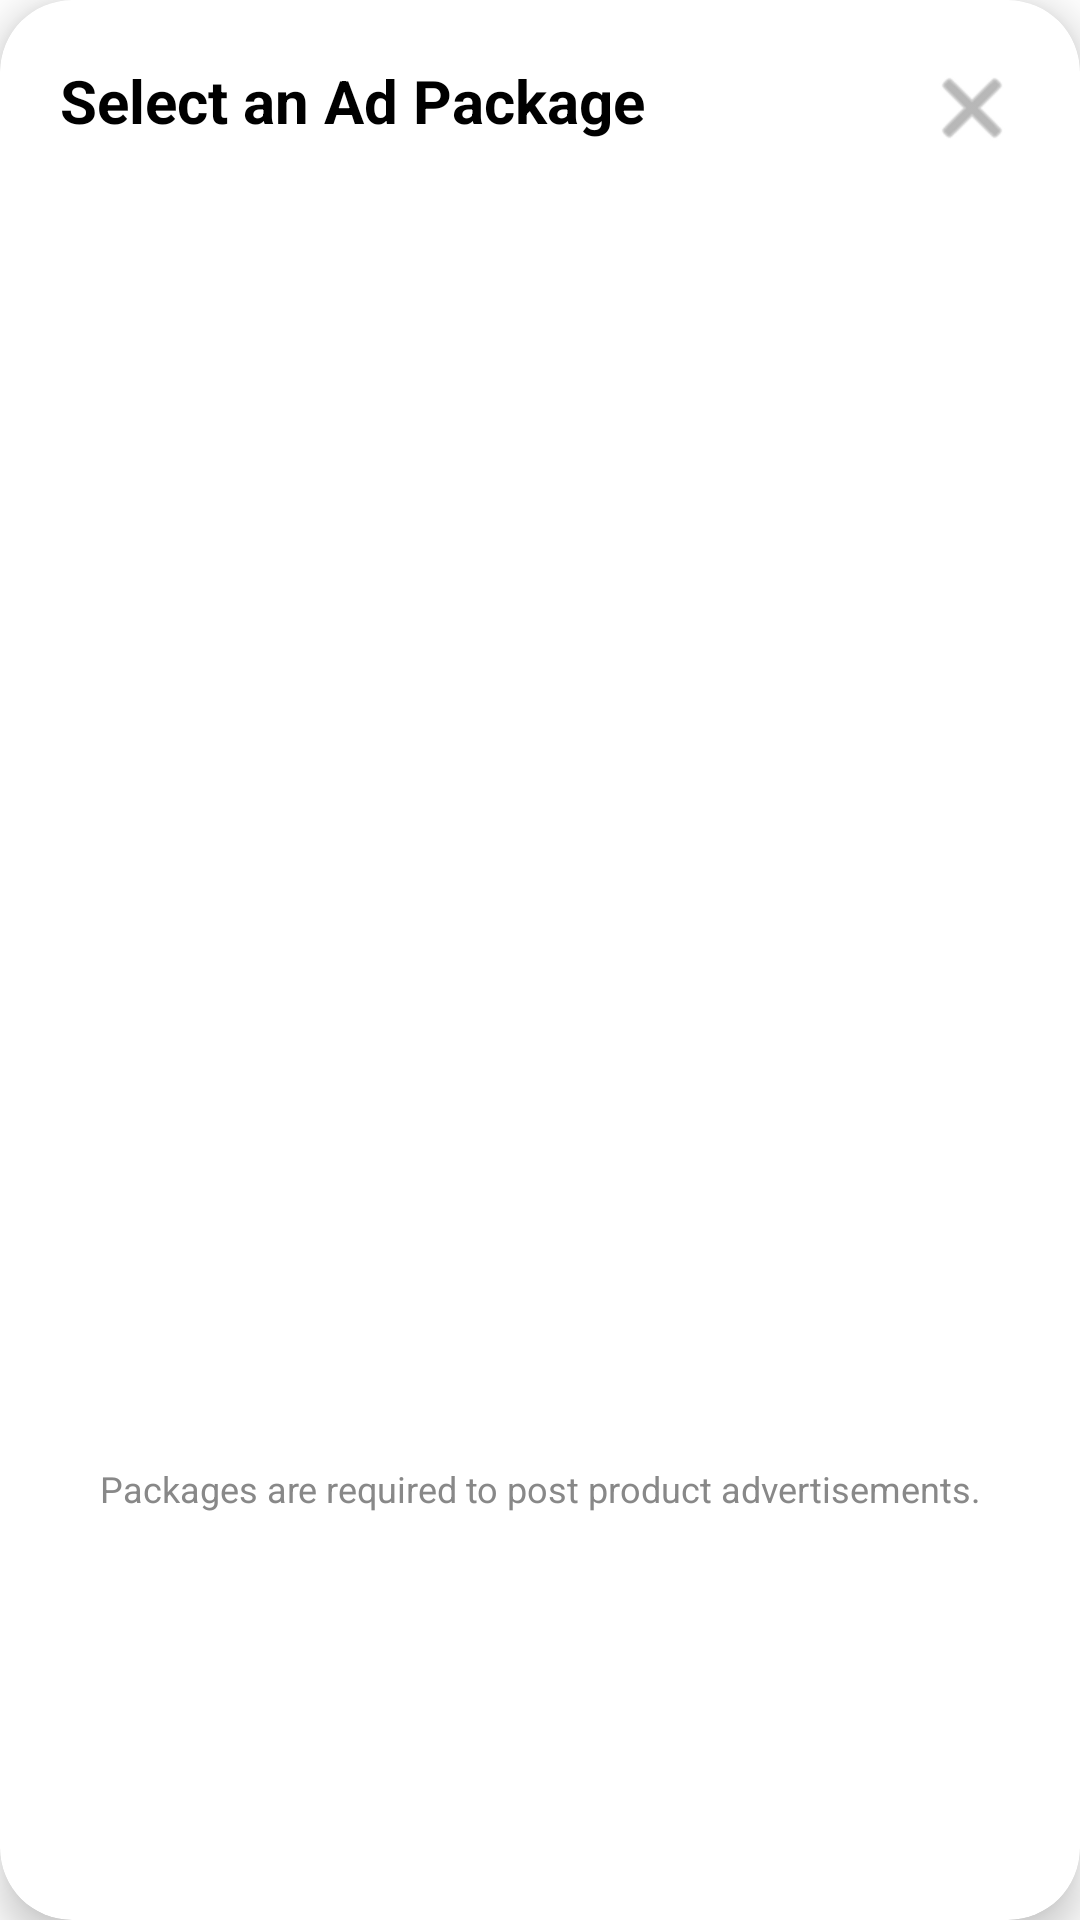

Where to tap for icons on this 1080*1920 app screen, as (x=x, y=y):
close clear cancel: (x=972, y=108)
